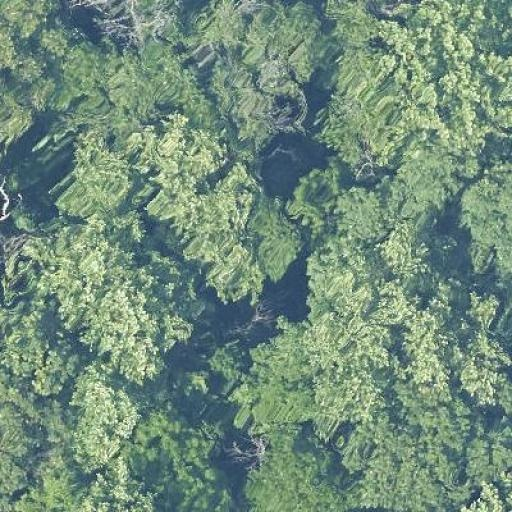tree-top: (306, 242, 511, 415), (46, 200, 195, 376), (149, 128, 267, 302), (200, 0, 333, 152), (380, 2, 511, 152), (355, 401, 506, 512), (213, 314, 316, 446), (323, 0, 395, 173), (42, 125, 152, 233), (55, 360, 142, 476), (248, 422, 357, 511), (0, 395, 80, 507), (12, 23, 106, 117), (111, 37, 216, 120), (126, 394, 218, 483), (0, 234, 54, 376), (453, 163, 511, 279), (247, 192, 305, 281), (333, 179, 396, 242)
